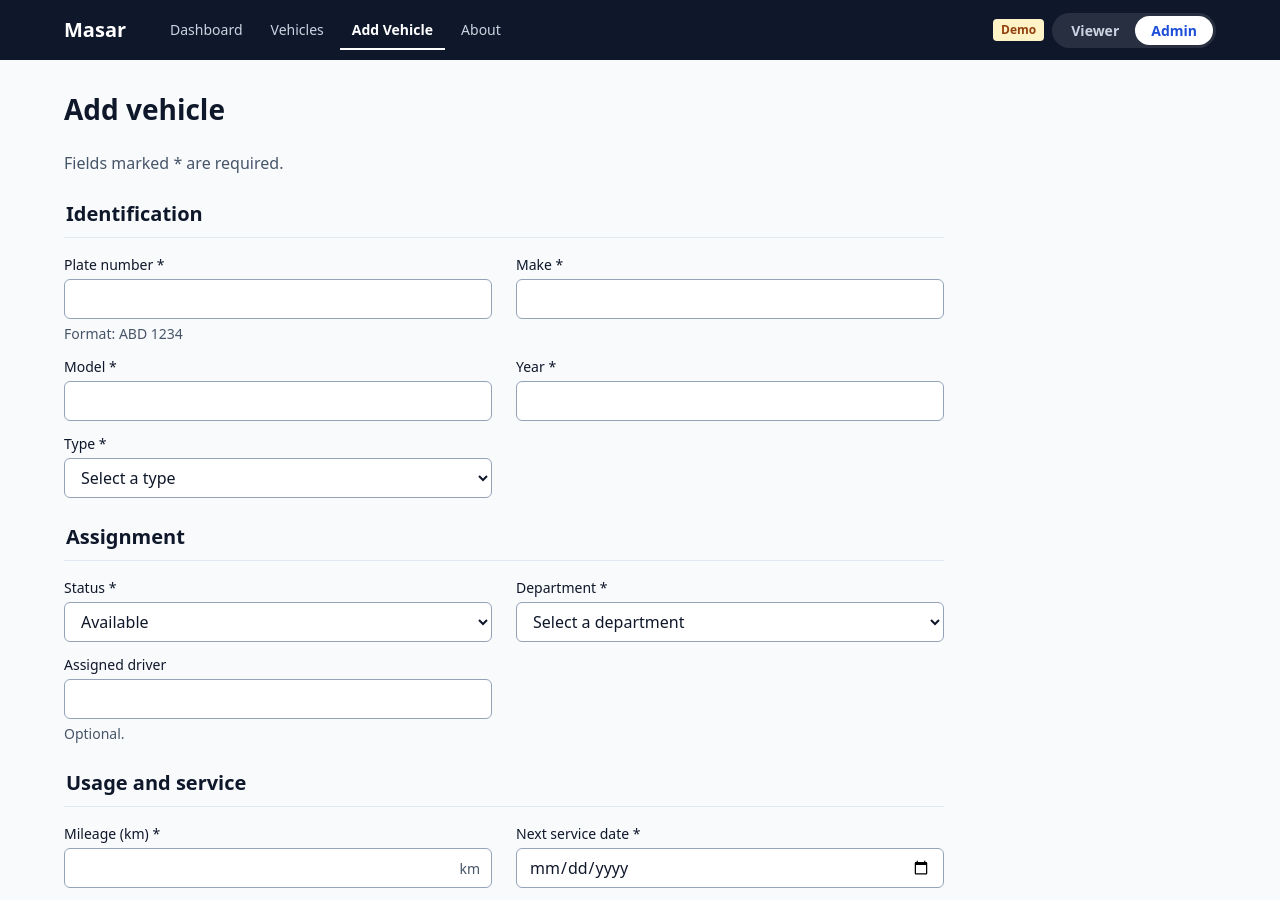
it: Add vehicle (US-4) › Cancel returns to the list without adding (AC-4.6)
Type "ABD 1234" into the field labelled "Plate number *" at (278, 299), box x1=64 y1=279 x2=492 y2=319
(page scrolled)
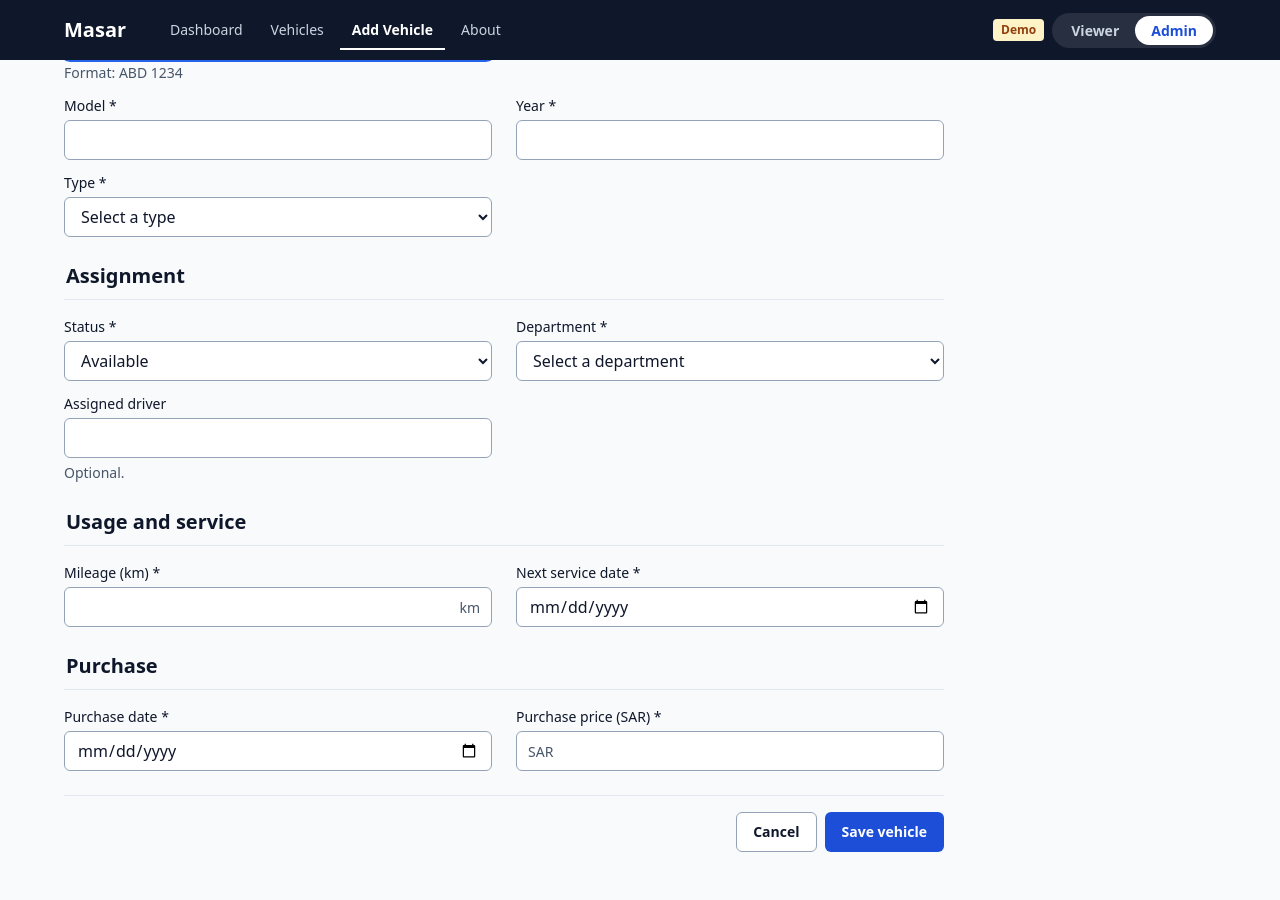
Click the button "Cancel" at (776, 832), box x1=736 y1=812 x2=816 y2=852
(page scrolled)
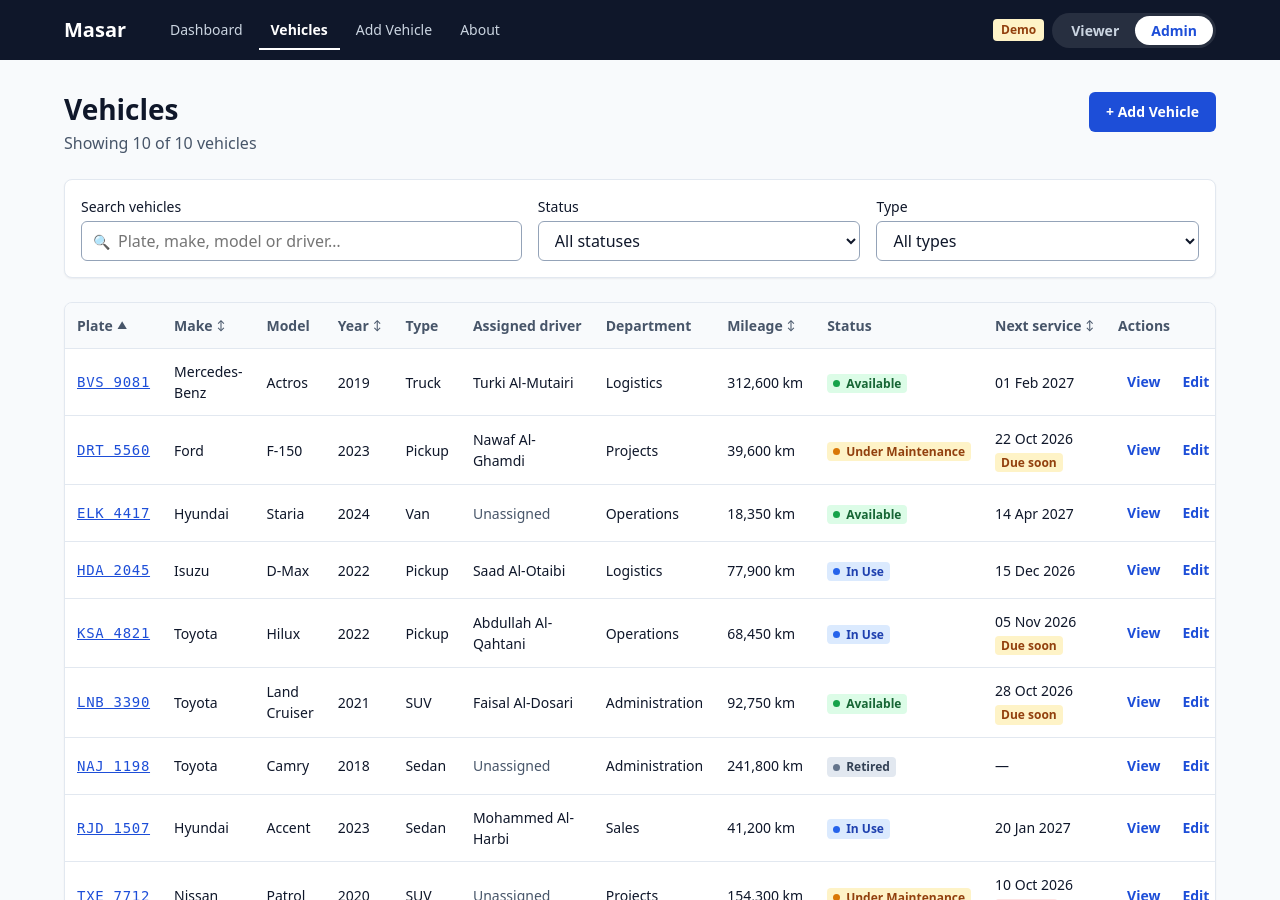
Expected: the text "Showing 10 of 10 vehicles" is shown, x1=64 y1=131 x2=257 y2=155
